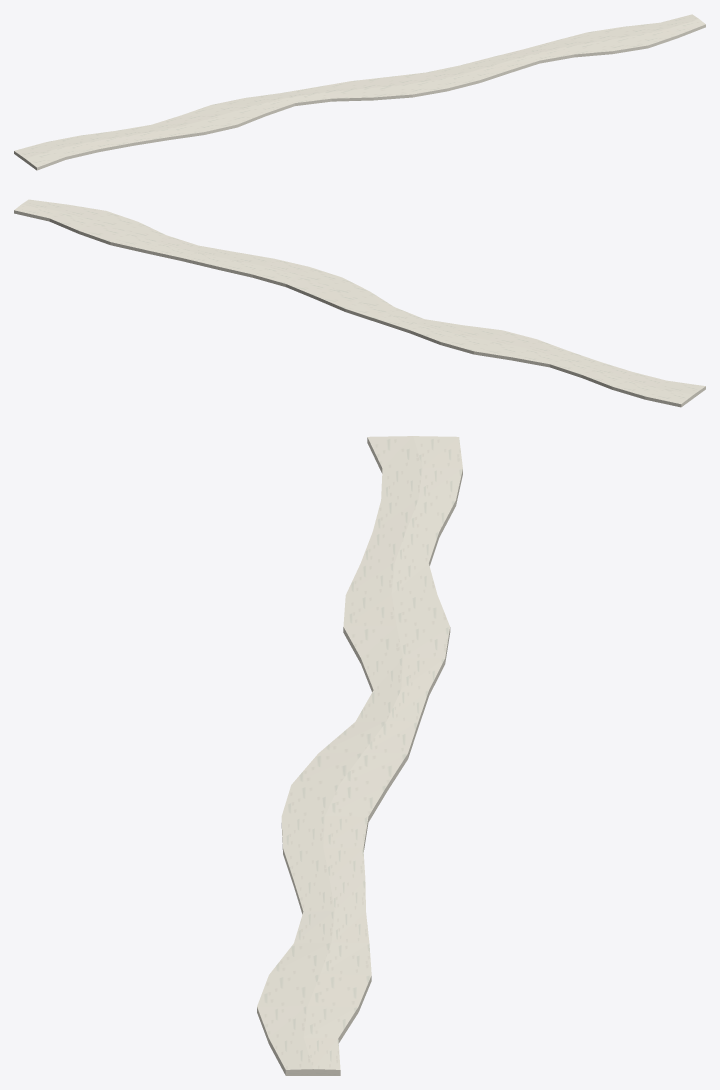
Rendered from shoreline_foam.glb.
3 renders of one model, top to bottom at view 1: azimuth 30°, elevation 25°; view 2: azimuth 150°, elevation 25°; view 3: azimuth 270°, elevation 25°, orthographic. The views are drawn at different scales.
Visible parts, largest first — view 1: beach_shoreline_foam; view 2: beach_shoreline_foam; view 3: beach_shoreline_foam.
Boxes of the visible parts, x1,y1,x2,y2 form: beach_shoreline_foam: (14,14,705,170); beach_shoreline_foam: (14,199,705,407); beach_shoreline_foam: (257,436,462,1075).
Bounding box in the file's own units: 8 × 0.04 × 1.1.
Materials: 1 (1 with a texture image).
